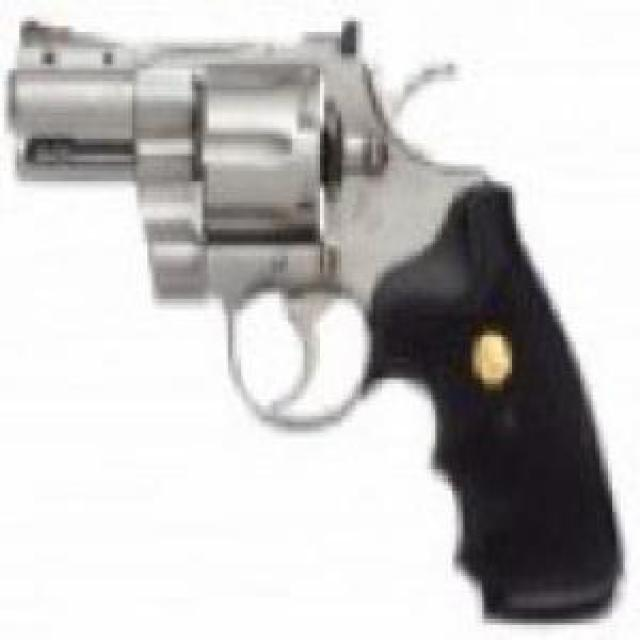pistol: (13, 17, 625, 625)
